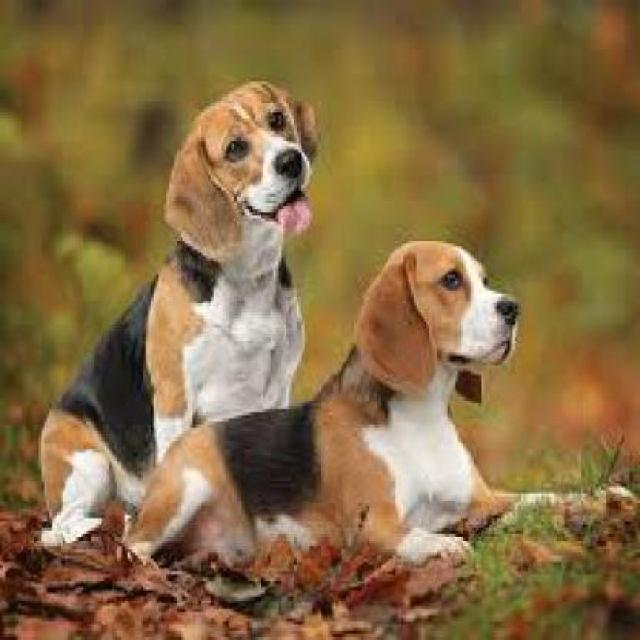Dog: (109, 238, 634, 574), (34, 80, 321, 554)
